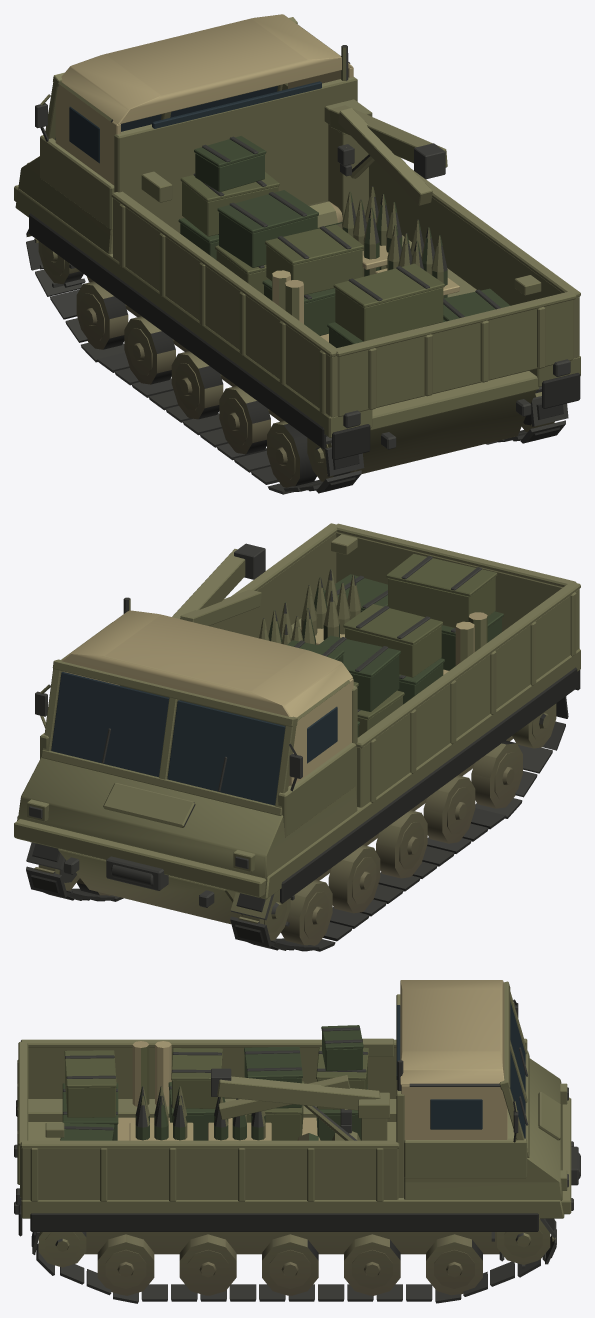
Rendered from alfa.glb.
3 renders of one model, top to bottom at view 1: azimuth 30°, elevation 25°; view 2: azimuth 150°, elevation 25°; view 3: azimuth 270°, elevation 25°, orthographic. The views are drawn at different scales.
Visible parts, largest first — view 1: hull, cargo, cab, tracks, crane; view 2: hull, cab, tracks, cargo, crane; view 3: hull, tracks, cargo, cab, crane.
Boxes of the visible parts, x1,y1,x2,y2 form: hull: [14, 76, 580, 473]; cargo: [178, 136, 510, 347]; cab: [27, 14, 353, 185]; tracks: [26, 229, 568, 494]; crane: [141, 99, 541, 295]; hull: [14, 523, 580, 924]; cab: [27, 597, 353, 871]; tracks: [26, 696, 568, 951]; cargo: [259, 554, 503, 737]; crane: [172, 534, 357, 625]; hull: [14, 994, 580, 1254]; tracks: [31, 1218, 556, 1303]; cargo: [60, 1025, 368, 1140]; cab: [396, 980, 568, 1190]; crane: [45, 1038, 393, 1140].
Bounding box in the file's own units: 2.84 × 2.82 × 6.08.
